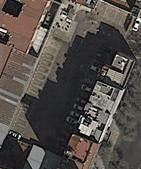parkingspot: (8, 26, 69, 142), (51, 49, 111, 153), (95, 1, 132, 29)
